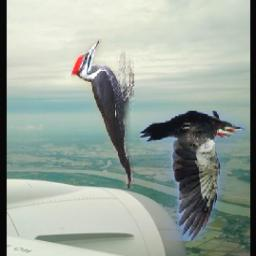Woodpecker: (140, 112, 246, 242), (71, 40, 134, 189)
